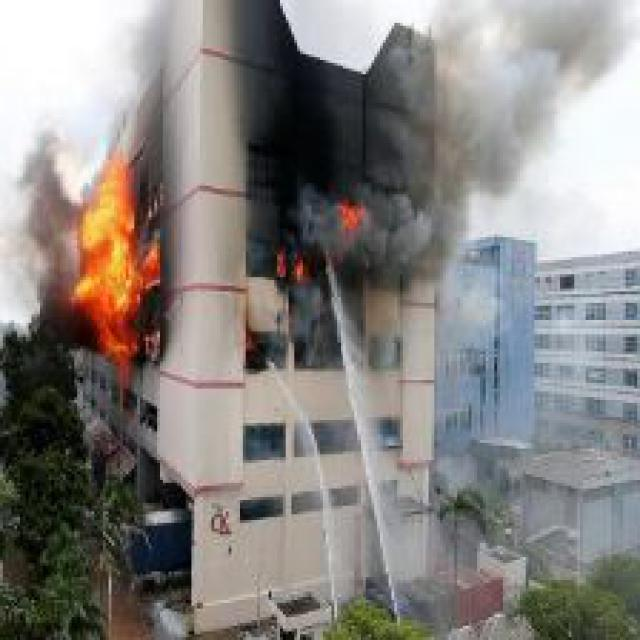fire: (63, 146, 183, 391), (266, 188, 391, 283)
